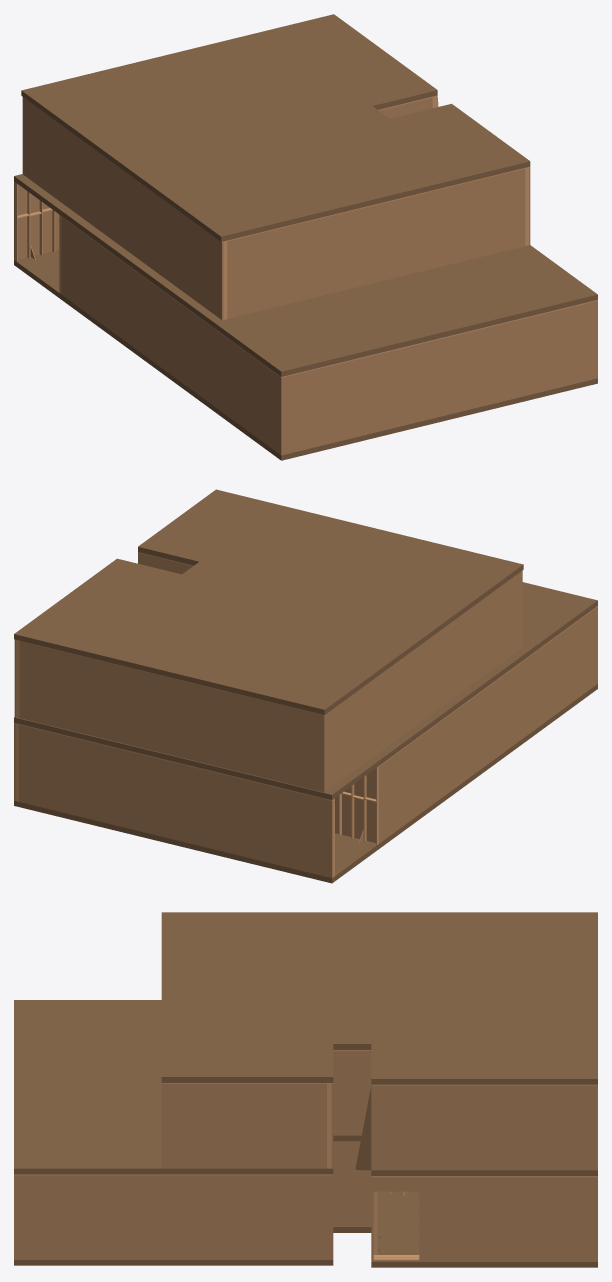
Rendered from Killhouse.fbx.
3 views of the same model, one above another, from view 1: azimuth 30°, elevation 25°; view 2: azimuth 150°, elevation 25°; view 3: azimuth 270°, elevation 25° (orthographic). The views are drawn at different scales.
Visible parts, largest first — view 1: Stud Wall 1.015, Stud Wall 1.016, Stud Wall 1.017, Stud Wall 1.018, Stud Wall 1.014, Stud Wall 1.049, Stud Wall 1.048, Stud Wall 1.052, Stud Wall 1.050, Stud Wall 1.053, Top Floor Studs.035, Top Floor Studs.044 (+51 smaller); view 2: Stud Wall 1.040, Stud Wall 1.041, Stud Wall 1.063, Stud Wall 1.024, Stud Wall 1.025, Stud Wall 1.039, Stud Wall 1.065, Stud Wall 1.062, Stud Wall 1.061, Stud Wall 1.064, Top Floor Studs.041, Top Floor Studs.042 (+45 smaller); view 3: Stud Wall 1.067, Stud Wall 1.058, Stud Wall 1.011, Stud Wall 1, Stud Wall 1.012, Stud Wall 1.013, Stud Wall 1.023, Stud Wall 1.010, Stud Wall 1.068, Stud Wall 1.059, Stud Wall 1.070, Top Floor Studs.035 (+47 smaller).
Boxes of the visible parts, left/top/right/bottom form: Stud Wall 1.015: left=344, top=347, right=407, bottom=439; Stud Wall 1.016: left=408, top=332, right=471, bottom=424; Stud Wall 1.017: left=471, top=316, right=534, bottom=408; Stud Wall 1.018: left=534, top=301, right=596, bottom=393; Stud Wall 1.014: left=283, top=362, right=344, bottom=454; Stud Wall 1.049: left=347, top=197, right=407, bottom=289; Stud Wall 1.048: left=287, top=212, right=347, bottom=303; Stud Wall 1.052: left=408, top=182, right=468, bottom=274; Stud Wall 1.050: left=227, top=227, right=287, bottom=318; Stud Wall 1.053: left=468, top=168, right=525, bottom=259; Top Floor Studs.035: left=420, top=131, right=530, bottom=183; Top Floor Studs.044: left=139, top=120, right=251, bottom=169; Stud Wall 1.040: left=269, top=786, right=332, bottom=877; Stud Wall 1.041: left=145, top=755, right=207, bottom=847; Stud Wall 1.063: left=19, top=641, right=81, bottom=733; Stud Wall 1.024: left=19, top=725, right=81, bottom=816; Stud Wall 1.025: left=82, top=740, right=144, bottom=832; Stud Wall 1.039: left=207, top=771, right=269, bottom=862; Stud Wall 1.065: left=261, top=700, right=322, bottom=791; Stud Wall 1.062: left=141, top=671, right=201, bottom=762; Stud Wall 1.061: left=81, top=656, right=141, bottom=747; Stud Wall 1.064: left=201, top=685, right=261, bottom=776; Top Floor Studs.041: left=79, top=619, right=189, bottom=671; Top Floor Studs.042: left=14, top=603, right=120, bottom=654; Stud Wall 1.067: left=507, top=1085, right=596, bottom=1170; Stud Wall 1.058: left=238, top=1084, right=326, bottom=1168; Stud Wall 1.011: left=173, top=1175, right=253, bottom=1259; Stud Wall 1: left=438, top=1177, right=517, bottom=1261; Stud Wall 1.012: left=94, top=1175, right=173, bottom=1259; Stud Wall 1.013: left=14, top=1175, right=93, bottom=1259; Stud Wall 1.023: left=518, top=1177, right=597, bottom=1261; Stud Wall 1.010: left=253, top=1175, right=331, bottom=1259; Stud Wall 1.068: left=431, top=1085, right=507, bottom=1170; Stud Wall 1.059: left=162, top=1084, right=237, bottom=1168; Stud Wall 1.070: left=355, top=1085, right=431, bottom=1170; Top Floor Studs.035: left=161, top=1040, right=252, bottom=1082.
Bounding box in the file's own units: 1091 × 557 × 1562.
